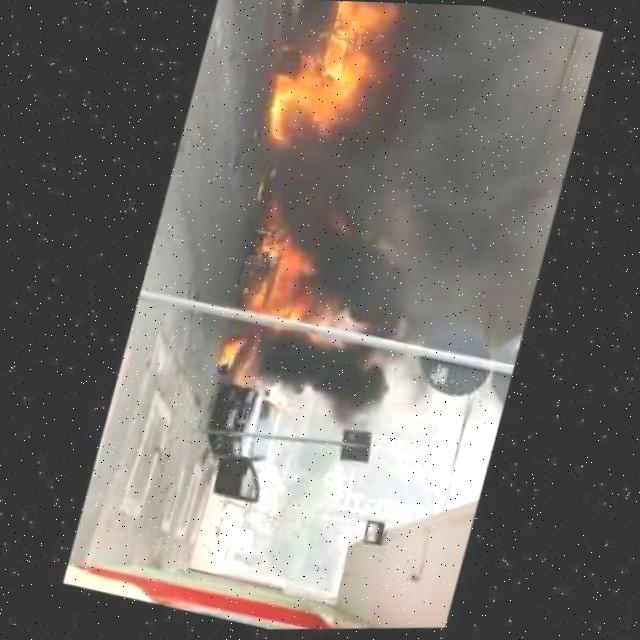fire: (255, 0, 399, 174), (240, 231, 364, 345), (212, 336, 245, 371)
